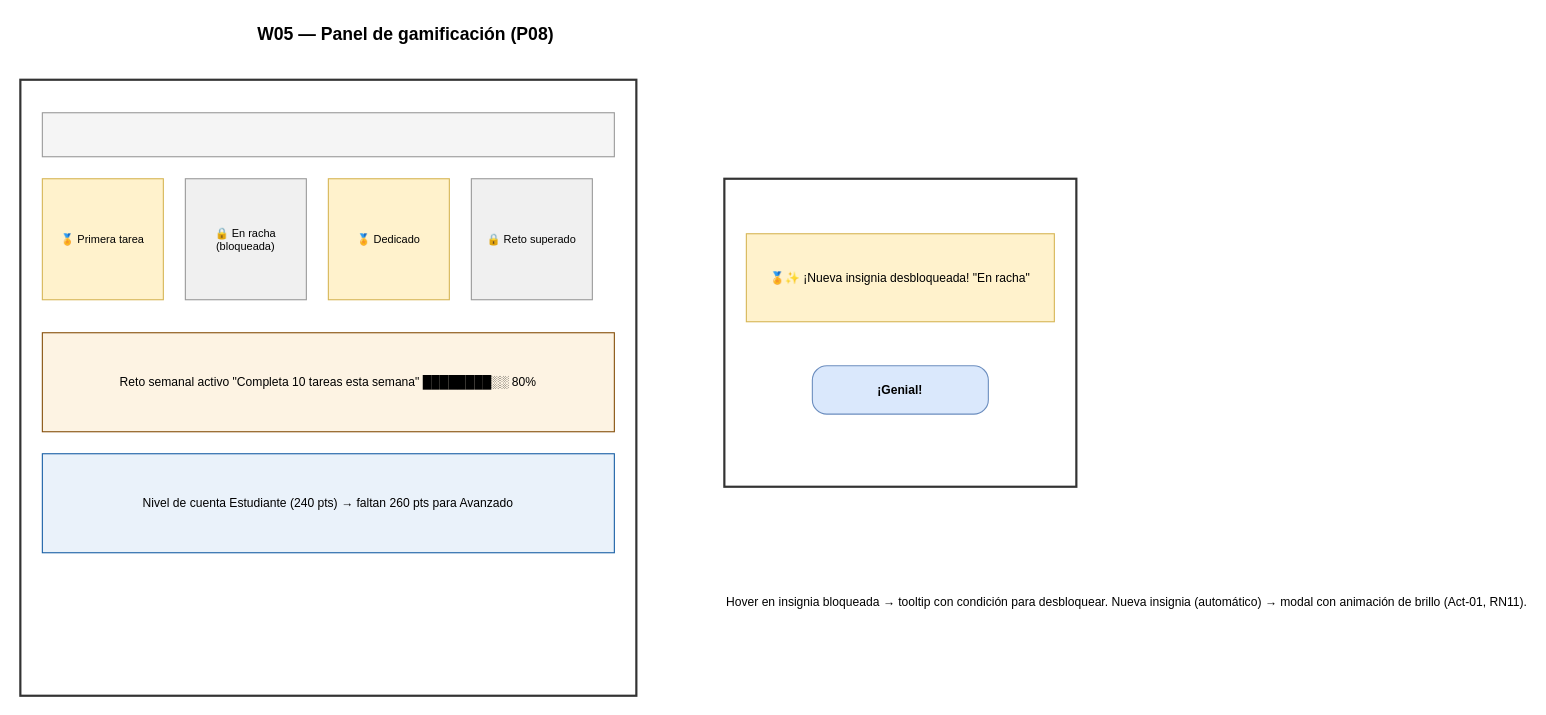
The diagram is 1546 pixels wide and 715 high, and some of its shapes have lost their labels. Here are the shapes that lost their labels. From the top down, the box of each, then its label:
(41, 112, 614, 157): Insignias | Reto semanal | Historial
(723, 177, 1077, 487): Modal de celebración
